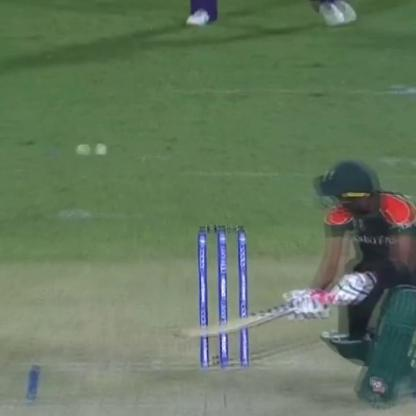ball: (90, 140, 113, 163), (71, 141, 93, 161)
bat: (165, 303, 317, 345)
pitch: (4, 344, 416, 416)
